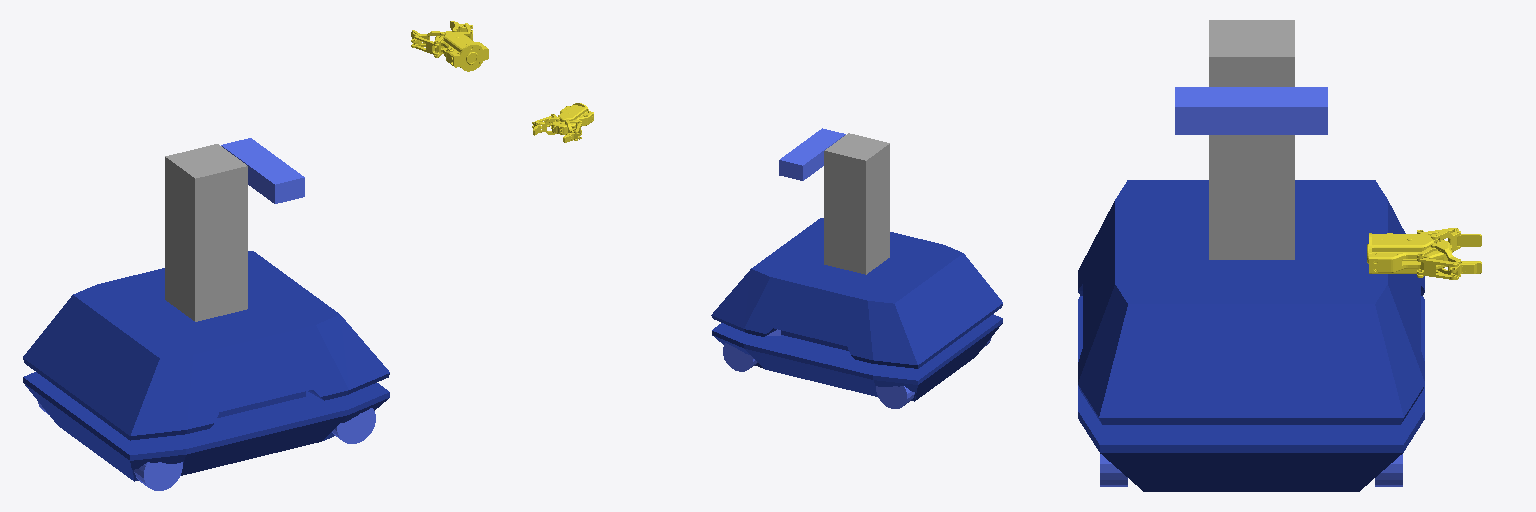
robot.urdf — moma_robot:
<?xml version="1.0" ?>
<!-- =================================================================================== -->
<!-- |    This document was autogenerated by xacro from ./robot/moma_robot.xacro       | -->
<!-- |    EDITING THIS FILE BY HAND IS NOT RECOMMENDED                                 | -->
<!-- =================================================================================== -->
<robot name="moma_robot" xmlns:xacro="http://ros.org/wiki/xacro">
  <material name="Blue">
    <color rgba="0.0 0.0 0.8 1.0"/>
  </material>
  <material name="LightBlue">
    <color rgba="0.4 0.5 1.0 1.0"/>
  </material>
  <material name="DeepBlue">
    <color rgba="0.2 0.3 0.7 1.0"/>
  </material>
  <material name="Green">
    <color rgba="0.0 0.8 0.0 1.0"/>
  </material>
  <material name="Grey">
    <color rgba="0.7 0.7 0.7 1.0"/>
  </material>
  <material name="Grey2">
    <color rgba="0.9 0.9 0.9 1.0"/>
  </material>
  <material name="Red">
    <color rgba="0.8 0.0 0.0 1.0"/>
  </material>
  <material name="White">
    <color rgba="1.0 1.0 1.0 1.0"/>
  </material>
  <material name="Black">
    <color rgba="0.1 0.1 0.1 1.0"/>
  </material>
  <material name="LightGrey">
    <color rgba="0.6 0.6 0.6 1.0"/>
  </material>
  <material name="Caster">
    <texture filename="package://pr2_description/materials/textures/pr2_caster_texture.png"/>
  </material>
  
  
  <link name="base_footprint">
    <visual>
      <geometry>
        <mesh filename="package://robot_bringup/description/meshes/moma_model_mesh/moma_mobile_base_visual.dae"/>
      </geometry>
      <origin rpy="0 0 3.14159265359" xyz="0.0 0.0 0.0"/>
      <material name="DeepBlue"/>
    </visual>
    <collision>
      <geometry>
        <mesh filename="package://robot_bringup/description/meshes/moma_model_mesh/moma_mobile_base_collision.stl"/>
      </geometry>
      <origin rpy="0 0 0" xyz="0.0 0.0 0.0"/>
    </collision>
  </link>
  <joint name="fl_wheel_joint" type="fixed">
    <origin rpy="0 0 0" xyz="0.2575 0.2235 0.06"/>
    <parent link="base_footprint"/>
    <child link="fl_wheel_link"/>
    <axis xyz="0 1 0"/>
  </joint>
  <link name="fl_wheel_link">
    <visual>
      <geometry>
        <mesh filename="package://robot_bringup/description/meshes/moma_model_mesh/moma_wheel_visual.dae"/>
      </geometry>
      <origin rpy="0 0 0" xyz="0.0 0.0 0.0"/>
      <material name="LightBlue"/>
    </visual>
    <collision>
      <geometry>
        <cylinder length="0.045" radius="0.052"/>
      </geometry>
      <origin rpy="1.57079632679 0 0" xyz="0.0 0.0 0.0"/>
    </collision>
  </link>
  <joint name="fr_wheel_joint" type="fixed">
    <origin rpy="0 0 0" xyz="0.2575 -0.2235 0.06"/>
    <parent link="base_footprint"/>
    <child link="fr_wheel_link"/>
    <axis xyz="0 1 0"/>
  </joint>
  <link name="fr_wheel_link">
    <visual>
      <geometry>
        <mesh filename="package://robot_bringup/description/meshes/moma_model_mesh/moma_wheel_visual.dae"/>
      </geometry>
      <origin rpy="0 0 0" xyz="0.0 0.0 0.0"/>
      <material name="LightBlue"/>
    </visual>
    <collision>
      <geometry>
        <cylinder length="0.045" radius="0.052"/>
      </geometry>
      <origin rpy="1.57079632679 0 0" xyz="0.0 0.0 0.0"/>
    </collision>
  </link>
  <joint name="bl_wheel_joint" type="fixed">
    <origin rpy="0 0 0" xyz="-0.2575 0.2235 0.06"/>
    <parent link="base_footprint"/>
    <child link="bl_wheel_link"/>
    <axis xyz="0 1 0"/>
  </joint>
  <link name="bl_wheel_link">
    <visual>
      <geometry>
        <mesh filename="package://robot_bringup/description/meshes/moma_model_mesh/moma_wheel_visual.dae"/>
      </geometry>
      <origin rpy="0 0 0" xyz="0.0 0.0 0.0"/>
      <material name="LightBlue"/>
    </visual>
    <collision>
      <geometry>
        <cylinder length="0.045" radius="0.052"/>
      </geometry>
      <origin rpy="1.57079632679 0 0" xyz="0.0 0.0 0.0"/>
    </collision>
  </link>
  <joint name="br_wheel_joint" type="fixed">
    <origin rpy="0 0 0" xyz="-0.2575 -0.2235 0.06"/>
    <parent link="base_footprint"/>
    <child link="br_wheel_link"/>
    <axis xyz="0 1 0"/>
  </joint>
  <link name="br_wheel_link">
    <visual>
      <geometry>
        <mesh filename="package://robot_bringup/description/meshes/moma_model_mesh/moma_wheel_visual.dae"/>
      </geometry>
      <origin rpy="0 0 0" xyz="0.0 0.0 0.0"/>
      <material name="LightBlue"/>
    </visual>
    <collision>
      <geometry>
        <cylinder length="0.045" radius="0.052"/>
      </geometry>
      <origin rpy="1.57079632679 0 0" xyz="0.0 0.0 0.0"/>
    </collision>
  </link>
  <joint name="F_lidar_joint" type="fixed">
    <parent link="base_footprint"/>
    <child link="F_lidar_link"/>
    <origin rpy="3.14159265359 0.0 0.628318530716" xyz="0.181 0.17285 0.13625"/>
  </joint>
  <link name="F_lidar_link">
    <visual>
      <geometry>
        <box size="0.04 0.04 0.08"/>
      </geometry>
      <origin rpy="0 0 0" xyz="0.0 0.0 0.0"/>
      <material name="LightBlue"/>
    </visual>
    <collision>
      <geometry>
        <box size="0.04 0.04 0.08"/>
      </geometry>
      <origin rpy="0 0 0" xyz="0.0 0.0 0.0"/>
      <material name="LightBlue"/>
    </collision>
  </link>
  <joint name="B_lidar_joint" type="fixed">
    <parent link="base_footprint"/>
    <child link="B_lidar_link"/>
    <origin rpy="3.14159265359 0.0 -2.51327412286" xyz="-0.181 -0.17285 0.13625"/>
  </joint>
  <link name="B_lidar_link">
    <visual>
      <geometry>
        <box size="0.04 0.04 0.08"/>
      </geometry>
      <origin rpy="0 0 0" xyz="0.0 0.0 0.0"/>
      <material name="LightBlue"/>
    </visual>
    <collision>
      <geometry>
        <box size="0.04 0.04 0.08"/>
      </geometry>
      <origin rpy="0 0 0" xyz="0.0 0.0 0.0"/>
      <material name="LightBlue"/>
    </collision>
  </link>
  <joint name="lift_base_joint" type="fixed">
    <parent link="base_footprint"/>
    <child link="lift_fix_link"/>
    <origin rpy="0.0 0.0 0.0" xyz="0.0 0.0 0.318"/>
  </joint>
  <link name="lift_fix_link">
    <visual>
      <geometry>
        <box size="0.10 0.10 0.37"/>
      </geometry>
      <origin rpy="0 0 0" xyz="0.0 0.0 0.185"/>
      <material name="Grey"/>
    </visual>
    <collision>
      <geometry>
        <box size="0.10 0.10 0.37"/>
      </geometry>
      <origin rpy="0 0 0" xyz="0.0 0.0 0.185"/>
    </collision>
  </link>
  <joint name="lift_move_joint" type="prismatic">
    <parent link="lift_fix_link"/>
    <child link="lift_move_link"/>
    <origin rpy="0.0 0.0 0.0" xyz="0.0 0.0 0.0"/>
    <limit effort="250" lower="0.0" upper="0.25" velocity="0.5"/>
    <axis xyz="0 0 1"/>
  </joint>
  <link name="lift_move_link">
    <visual>
      <geometry>
        <box size="0.14 0.14 0.37"/>
      </geometry>
      <origin rpy="0 0 0" xyz="0.0 0.0 0.185"/>
      <material name="Grey"/>
    </visual>
    <collision>
      <geometry>
        <box size="0.14 0.14 0.37"/>
      </geometry>
      <origin rpy="0 0 0" xyz="0.0 0.0 0.185"/>
    </collision>
  </link>
  <joint name="global_camera_joint" type="fixed">
    <parent link="lift_move_link"/>
    <child link="global_camera_link"/>
    <origin rpy="0.0 0.0 0.0" xyz="0.15 0.0 0.31"/>
  </joint>
  <link name="global_camera_link">
    <visual>
      <geometry>
        <box size="0.08 0.25 0.05"/>
      </geometry>
      <origin rpy="0 0 0" xyz="0.0 0.0 0.0"/>
      <material name="LightBlue"/>
    </visual>
    <collision>
      <geometry>
        <box size="0.08 0.25 0.05"/>
      </geometry>
      <origin rpy="0 0 0" xyz="0.0 0.0 0.0"/>
      <material name="LightBlue"/>
    </collision>
  </link>
  <link name="base_link">
    <visual>
      <geometry>
        <mesh filename="package://ur_description/meshes/ur5/visual/base.dae"/>
      </geometry>
      <material name="LightGrey">
        <color rgba="0.7 0.7 0.7 1.0"/>
      </material>
    </visual>
    <collision>
      <geometry>
        <mesh filename="package://ur_description/meshes/ur5/collision/base.stl"/>
      </geometry>
    </collision>
    <inertial>
      <mass value="4.0"/>
      <origin rpy="0 0 0" xyz="0.0 0.0 0.0"/>
      <inertia ixx="0.00443333156" ixy="0.0" ixz="0.0" iyy="0.00443333156" iyz="0.0" izz="0.0072"/>
    </inertial>
  </link>
  <joint name="shoulder_pan_joint" type="revolute">
    <parent link="base_link"/>
    <child link="shoulder_link"/>
    <origin rpy="0.0 0.0 0.0" xyz="0.0 0.0 0.089159"/>
    <axis xyz="0 0 1"/>
    <limit effort="150.0" lower="-6.2831853" upper="6.2831853" velocity="3.15"/>
    <dynamics damping="0.0" friction="0.0"/>
  </joint>
  <link name="shoulder_link">
    <visual>
      <geometry>
        <mesh filename="package://ur_description/meshes/ur5/visual/shoulder.dae"/>
      </geometry>
      <material name="LightGrey">
        <color rgba="0.7 0.7 0.7 1.0"/>
      </material>
    </visual>
    <collision>
      <geometry>
        <mesh filename="package://ur_description/meshes/ur5/collision/shoulder.stl"/>
      </geometry>
    </collision>
    <inertial>
      <mass value="3.7"/>
      <origin rpy="0 0 0" xyz="0.0 0.0 0.0"/>
      <inertia ixx="0.010267495893" ixy="0.0" ixz="0.0" iyy="0.010267495893" iyz="0.0" izz="0.00666"/>
    </inertial>
  </link>
  <joint name="shoulder_lift_joint" type="revolute">
    <parent link="shoulder_link"/>
    <child link="upper_arm_link"/>
    <origin rpy="0.0 1.570796325 0.0" xyz="0.0 0.13585 0.0"/>
    <axis xyz="0 1 0"/>
    <limit effort="150.0" lower="-6.2831853" upper="6.2831853" velocity="3.15"/>
    <dynamics damping="0.0" friction="0.0"/>
  </joint>
  <link name="upper_arm_link">
    <visual>
      <geometry>
        <mesh filename="package://ur_description/meshes/ur5/visual/upperarm.dae"/>
      </geometry>
      <material name="LightGrey">
        <color rgba="0.7 0.7 0.7 1.0"/>
      </material>
    </visual>
    <collision>
      <geometry>
        <mesh filename="package://ur_description/meshes/ur5/collision/upperarm.stl"/>
      </geometry>
    </collision>
    <inertial>
      <mass value="8.393"/>
      <origin rpy="0 0 0" xyz="0.0 0.0 0.28"/>
      <inertia ixx="0.22689067591" ixy="0.0" ixz="0.0" iyy="0.22689067591" iyz="0.0" izz="0.0151074"/>
    </inertial>
  </link>
  <joint name="elbow_joint" type="revolute">
    <parent link="upper_arm_link"/>
    <child link="forearm_link"/>
    <origin rpy="0.0 0.0 0.0" xyz="0.0 -0.1197 0.425"/>
    <axis xyz="0 1 0"/>
    <limit effort="150.0" lower="-6.2831853" upper="6.2831853" velocity="3.15"/>
    <dynamics damping="0.0" friction="0.0"/>
  </joint>
  <link name="forearm_link">
    <visual>
      <geometry>
        <mesh filename="package://ur_description/meshes/ur5/visual/forearm.dae"/>
      </geometry>
      <material name="LightGrey">
        <color rgba="0.7 0.7 0.7 1.0"/>
      </material>
    </visual>
    <collision>
      <geometry>
        <mesh filename="package://ur_description/meshes/ur5/collision/forearm.stl"/>
      </geometry>
    </collision>
    <inertial>
      <mass value="2.275"/>
      <origin rpy="0 0 0" xyz="0.0 0.0 0.25"/>
      <inertia ixx="0.049443313556" ixy="0.0" ixz="0.0" iyy="0.049443313556" iyz="0.0" izz="0.004095"/>
    </inertial>
  </link>
  <joint name="wrist_1_joint" type="revolute">
    <parent link="forearm_link"/>
    <child link="wrist_1_link"/>
    <origin rpy="0.0 1.570796325 0.0" xyz="0.0 0.0 0.39225"/>
    <axis xyz="0 1 0"/>
    <limit effort="28.0" lower="-6.2831853" upper="6.2831853" velocity="3.2"/>
    <dynamics damping="0.0" friction="0.0"/>
  </joint>
  <link name="wrist_1_link">
    <visual>
      <geometry>
        <mesh filename="package://ur_description/meshes/ur5/visual/wrist1.dae"/>
      </geometry>
      <material name="LightGrey">
        <color rgba="0.7 0.7 0.7 1.0"/>
      </material>
    </visual>
    <collision>
      <geometry>
        <mesh filename="package://ur_description/meshes/ur5/collision/wrist1.stl"/>
      </geometry>
    </collision>
    <inertial>
      <mass value="1.219"/>
      <origin rpy="0 0 0" xyz="0.0 0.0 0.0"/>
      <inertia ixx="0.111172755531" ixy="0.0" ixz="0.0" iyy="0.111172755531" iyz="0.0" izz="0.21942"/>
    </inertial>
  </link>
  <joint name="wrist_2_joint" type="revolute">
    <parent link="wrist_1_link"/>
    <child link="wrist_2_link"/>
    <origin rpy="0.0 0.0 0.0" xyz="0.0 0.093 0.0"/>
    <axis xyz="0 0 1"/>
    <limit effort="28.0" lower="-6.2831853" upper="6.2831853" velocity="3.2"/>
    <dynamics damping="0.0" friction="0.0"/>
  </joint>
  <link name="wrist_2_link">
    <visual>
      <geometry>
        <mesh filename="package://ur_description/meshes/ur5/visual/wrist2.dae"/>
      </geometry>
      <material name="LightGrey">
        <color rgba="0.7 0.7 0.7 1.0"/>
      </material>
    </visual>
    <collision>
      <geometry>
        <mesh filename="package://ur_description/meshes/ur5/collision/wrist2.stl"/>
      </geometry>
    </collision>
    <inertial>
      <mass value="1.219"/>
      <origin rpy="0 0 0" xyz="0.0 0.0 0.0"/>
      <inertia ixx="0.111172755531" ixy="0.0" ixz="0.0" iyy="0.111172755531" iyz="0.0" izz="0.21942"/>
    </inertial>
  </link>
  <joint name="wrist_3_joint" type="revolute">
    <parent link="wrist_2_link"/>
    <child link="wrist_3_link"/>
    <origin rpy="0.0 0.0 0.0" xyz="0.0 0.0 0.09465"/>
    <axis xyz="0 1 0"/>
    <limit effort="28.0" lower="-6.2831853" upper="6.2831853" velocity="3.2"/>
    <dynamics damping="0.0" friction="0.0"/>
  </joint>
  <link name="wrist_3_link">
    <visual>
      <geometry>
        <mesh filename="package://ur_description/meshes/ur5/visual/wrist3.dae"/>
      </geometry>
      <material name="LightGrey">
        <color rgba="0.7 0.7 0.7 1.0"/>
      </material>
    </visual>
    <collision>
      <geometry>
        <mesh filename="package://ur_description/meshes/ur5/collision/wrist3.stl"/>
      </geometry>
    </collision>
    <inertial>
      <mass value="0.1879"/>
      <origin rpy="0 0 0" xyz="0.0 0.0 0.0"/>
      <inertia ixx="0.0171364731454" ixy="0.0" ixz="0.0" iyy="0.0171364731454" iyz="0.0" izz="0.033822"/>
    </inertial>
  </link>
  <joint name="ee_fixed_joint" type="fixed">
    <parent link="wrist_3_link"/>
    <child link="ee_link"/>
    <origin rpy="0.0 0.0 1.570796325" xyz="0.0 0.0823 0.0"/>
  </joint>
  <link name="ee_link">
    <collision>
      <geometry>
        <box size="0.01 0.01 0.01"/>
      </geometry>
      <origin rpy="0 0 0" xyz="-0.01 0 0"/>
    </collision>
  </link>
  <transmission name="shoulder_pan_trans">
    <type>transmission_interface/SimpleTransmission</type>
    <joint name="shoulder_pan_joint">
      <hardwareInterface>PositionJointInterface</hardwareInterface>
    </joint>
    <actuator name="shoulder_pan_motor">
      <mechanicalReduction>1</mechanicalReduction>
    </actuator>
  </transmission>
  <transmission name="shoulder_lift_trans">
    <type>transmission_interface/SimpleTransmission</type>
    <joint name="shoulder_lift_joint">
      <hardwareInterface>PositionJointInterface</hardwareInterface>
    </joint>
    <actuator name="shoulder_lift_motor">
      <mechanicalReduction>1</mechanicalReduction>
    </actuator>
  </transmission>
  <transmission name="elbow_trans">
    <type>transmission_interface/SimpleTransmission</type>
    <joint name="elbow_joint">
      <hardwareInterface>PositionJointInterface</hardwareInterface>
    </joint>
    <actuator name="elbow_motor">
      <mechanicalReduction>1</mechanicalReduction>
    </actuator>
  </transmission>
  <transmission name="wrist_1_trans">
    <type>transmission_interface/SimpleTransmission</type>
    <joint name="wrist_1_joint">
      <hardwareInterface>PositionJointInterface</hardwareInterface>
    </joint>
    <actuator name="wrist_1_motor">
      <mechanicalReduction>1</mechanicalReduction>
    </actuator>
  </transmission>
  <transmission name="wrist_2_trans">
    <type>transmission_interface/SimpleTransmission</type>
    <joint name="wrist_2_joint">
      <hardwareInterface>PositionJointInterface</hardwareInterface>
    </joint>
    <actuator name="wrist_2_motor">
      <mechanicalReduction>1</mechanicalReduction>
    </actuator>
  </transmission>
  <transmission name="wrist_3_trans">
    <type>transmission_interface/SimpleTransmission</type>
    <joint name="wrist_3_joint">
      <hardwareInterface>PositionJointInterface</hardwareInterface>
    </joint>
    <actuator name="wrist_3_motor">
      <mechanicalReduction>1</mechanicalReduction>
    </actuator>
  </transmission>

  <joint name="wrist_3_link-tool0_fixed_joint" type="fixed">
    <origin rpy="-1.570796325 0 0" xyz="0 0.0823 0"/>
    <parent link="wrist_3_link"/>
    <child link="tool0"/>
  </joint>
  <link name="tool0"/>

  <!-- ========== Add ag95 start ========== -->

  <joint name="ag_hand_link-tool0_fixed_joint" type="fixed">
    <origin rpy="0 0 0" xyz="0 0 0"/>
    <parent link="tool0"/>
    <child link="ag_hand_link"/>
  </joint>


  <link name="ag_hand_link">
    <visual>
      <geometry>
        <mesh filename="package://robot_bringup/description/meshes/visual/ag95.obj"/>
      </geometry>
    </visual>

    <collision>
      <geometry>
        <box size="0.09 0.06 0.14"/>
      </geometry>
      <origin rpy="0 0 0" xyz="0.0 0.0 0.07"/>
    </collision>
  </link>


  <joint name="ag_hand_left_joint" type="fixed">
    <origin rpy="0 0 0" xyz="0 0 0"/>
    <parent link="ag_hand_link"/>
    <child link="ag_hand_left"/>
  </joint>

  <link name="ag_hand_left">
    <collision>
      <geometry>
        <box size="0.04 0.06 0.07"/>
      </geometry>
      <origin rpy="0 0 0" xyz="0.06 0.0 0.15"/>
    </collision>
  </link>

  <joint name="ag_hand_right_joint" type="fixed">
    <origin rpy="0 0 0" xyz="0 0 0"/>
    <parent link="ag_hand_link"/>
    <child link="ag_hand_right"/>
  </joint>

  <link name="ag_hand_right">
    <collision>
      <geometry>
        <box size="0.04 0.06 0.07"/>
      </geometry>
      <origin rpy="0 0 0" xyz="-0.06 0.0 0.15"/>
    </collision>
  </link>


  <joint name="ag_hand_ee_joint" type="fixed">
    <origin rpy="0 0 0" xyz="0 0 0.15"/>
    <parent link="ag_hand_link"/>
    <child link="gripper_ee_link"/>
  </joint>

  <link name="gripper_ee_link"></link>

  <!-- ========== Add ag95 over ========== -->


  <joint name="arm_lift_joint" type="fixed">
    <parent link="lift_move_link"/>
    <child link="base_link"/>
    <origin rpy="0.0 0.0 0.0" xyz="0.0 0.0 0.37"/>
  </joint>
  
  
 </robot>

--- Render facts (derived) ---
The picture shows the robot from 3 angles, left to right: view 1: azimuth 30°, elevation 25°; view 2: azimuth 150°, elevation 25°; view 3: azimuth 270°, elevation 25°; orthographic projection.
Model moma_robot with 23 links and 22 joints (6 revolute, 1 prismatic, 15 fixed), rooted at base_footprint, posed all joints at 0.
Links seen in each view (by area): view 1: base_footprint, lift_move_link, global_camera_link, ag_hand_link, br_wheel_link, fr_wheel_link, lift_fix_link; view 2: base_footprint, lift_move_link, global_camera_link, ag_hand_link, bl_wheel_link, fl_wheel_link; view 3: base_footprint, lift_move_link, global_camera_link, ag_hand_link, lift_fix_link, fr_wheel_link, fl_wheel_link.
Boxes of the visible links, <box> form: base_footprint: <box>23,251,389,481</box>; lift_move_link: <box>165,144,247,321</box>; global_camera_link: <box>221,138,304,203</box>; ag_hand_link: <box>411,21,488,71</box>; br_wheel_link: <box>134,462,182,490</box>; fr_wheel_link: <box>332,408,375,443</box>; lift_fix_link: <box>178,149,235,173</box>; base_footprint: <box>711,218,1002,401</box>; lift_move_link: <box>824,133,889,274</box>; global_camera_link: <box>779,128,845,180</box>; ag_hand_link: <box>532,103,593,142</box>; bl_wheel_link: <box>876,386,914,408</box>; fl_wheel_link: <box>723,343,757,371</box>; base_footprint: <box>1078,180,1424,491</box>; lift_move_link: <box>1209,20,1294,259</box>; global_camera_link: <box>1175,87,1327,134</box>; ag_hand_link: <box>1367,228,1481,279</box>; lift_fix_link: <box>1221,26,1281,51</box>; fr_wheel_link: <box>1100,454,1127,486</box>; fl_wheel_link: <box>1375,454,1402,486</box>.
Bounding box of the posed robot: 1.25 × 0.6586 × 0.7075 m (x, y, z).
6 mesh visuals loaded from 10 distinct referenced files (2 Collada DAE, 1 OBJ); not drawn: 7 (reference not matched to a file when rendering).
